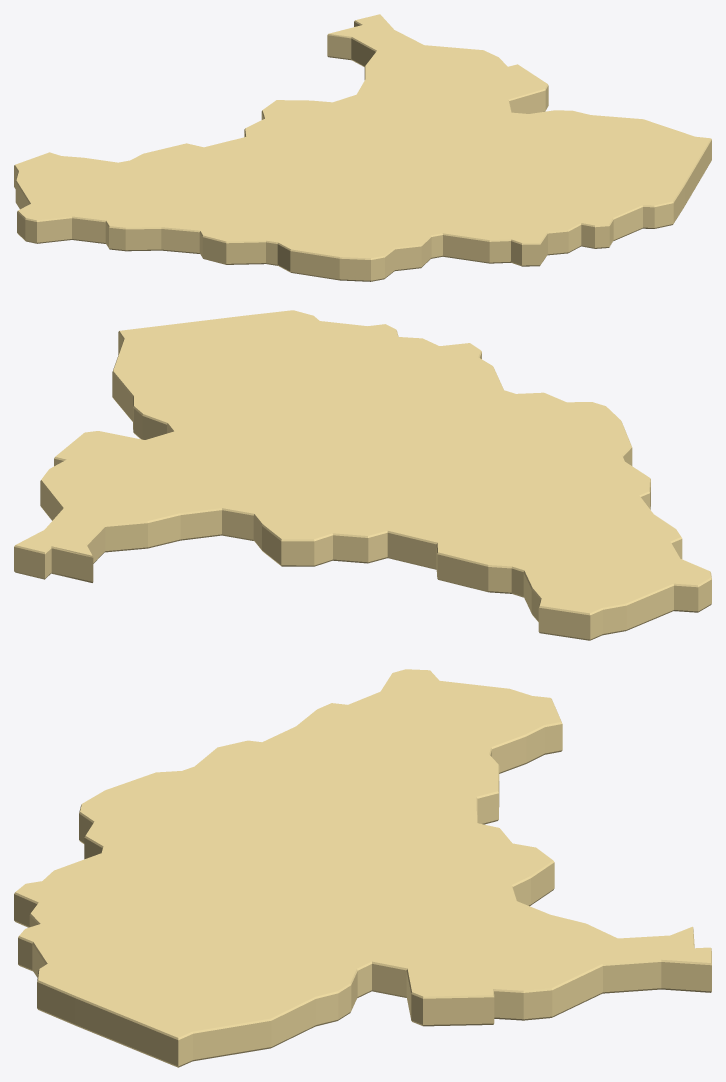
Rendered from SDS.glb.
3 renders of one model, top to bottom at view 1: azimuth 30°, elevation 25°; view 2: azimuth 150°, elevation 25°; view 3: azimuth 270°, elevation 25°, orthographic. The views are drawn at different scales.
Size of the model in its own units: 1.81 by 0.068 by 1.44.
